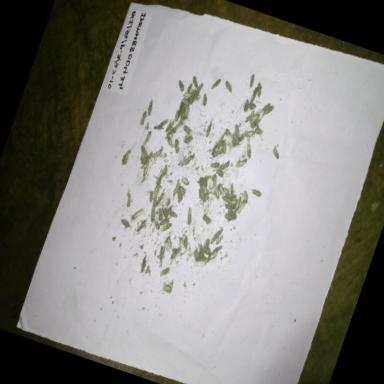pbw: (145, 198, 161, 224), (135, 215, 151, 236), (262, 101, 278, 121), (129, 204, 145, 224), (180, 151, 196, 171), (231, 192, 244, 216), (118, 146, 132, 168), (182, 206, 196, 228), (136, 109, 150, 131), (140, 159, 154, 181), (136, 254, 150, 276), (241, 125, 258, 143), (202, 118, 216, 139), (117, 217, 134, 234), (176, 104, 189, 126), (150, 176, 163, 198), (162, 232, 176, 252), (208, 228, 222, 248), (248, 184, 265, 200), (257, 98, 272, 116), (158, 220, 173, 238), (140, 150, 154, 169), (192, 80, 204, 102), (142, 128, 154, 149), (242, 142, 256, 160), (247, 110, 261, 128), (156, 243, 168, 264), (173, 186, 187, 204), (224, 181, 238, 199), (170, 138, 183, 157), (248, 86, 260, 106), (177, 172, 192, 188), (181, 232, 193, 252), (246, 72, 258, 92), (144, 98, 156, 118), (188, 88, 203, 104), (188, 73, 202, 90), (268, 145, 282, 162), (207, 172, 220, 190), (222, 78, 235, 96), (157, 265, 171, 281), (180, 122, 194, 138), (205, 248, 219, 264), (234, 156, 248, 172), (210, 242, 224, 258), (195, 187, 208, 204), (254, 81, 266, 99), (154, 190, 166, 208), (122, 192, 134, 210), (164, 117, 176, 135), (214, 231, 226, 249), (240, 98, 252, 116), (163, 126, 175, 144), (136, 146, 148, 164), (198, 92, 210, 110), (222, 127, 236, 142), (198, 253, 212, 268), (150, 216, 163, 232), (249, 116, 262, 132), (218, 157, 231, 173), (157, 115, 170, 131), (251, 124, 264, 140), (231, 123, 243, 140), (172, 119, 184, 136), (232, 132, 244, 149), (240, 188, 252, 205), (194, 244, 206, 261), (183, 82, 194, 100), (172, 106, 183, 124), (202, 236, 213, 254), (228, 130, 239, 148), (160, 282, 174, 296), (166, 208, 180, 222), (158, 206, 172, 220), (221, 201, 235, 215), (201, 212, 214, 227), (150, 147, 162, 163), (154, 208, 166, 224), (210, 186, 222, 202), (218, 140, 230, 156), (210, 77, 222, 93), (144, 188, 156, 204), (216, 180, 228, 196), (182, 132, 194, 148), (181, 104, 192, 121), (199, 172, 212, 186), (191, 248, 204, 262), (195, 176, 209, 189), (158, 215, 171, 229), (174, 80, 187, 94), (220, 212, 234, 225), (212, 147, 224, 162), (236, 199, 246, 217), (215, 134, 225, 152), (202, 188, 212, 206), (210, 140, 220, 158), (170, 182, 181, 198), (213, 167, 226, 180), (169, 247, 182, 260), (176, 235, 188, 249), (245, 109, 256, 124), (158, 164, 168, 180), (180, 90, 193, 102), (225, 197, 238, 209), (225, 211, 238, 223), (164, 137, 176, 150), (208, 160, 221, 172), (152, 122, 164, 134), (220, 186, 231, 199), (198, 184, 210, 195), (246, 101, 258, 112), (226, 192, 237, 203), (220, 194, 232, 204), (180, 96, 192, 106)
